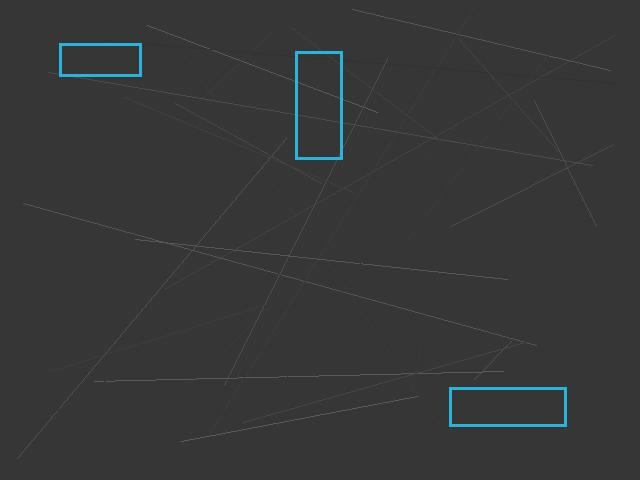D10: (295, 51, 342, 159), (449, 387, 566, 426), (59, 43, 141, 76)
